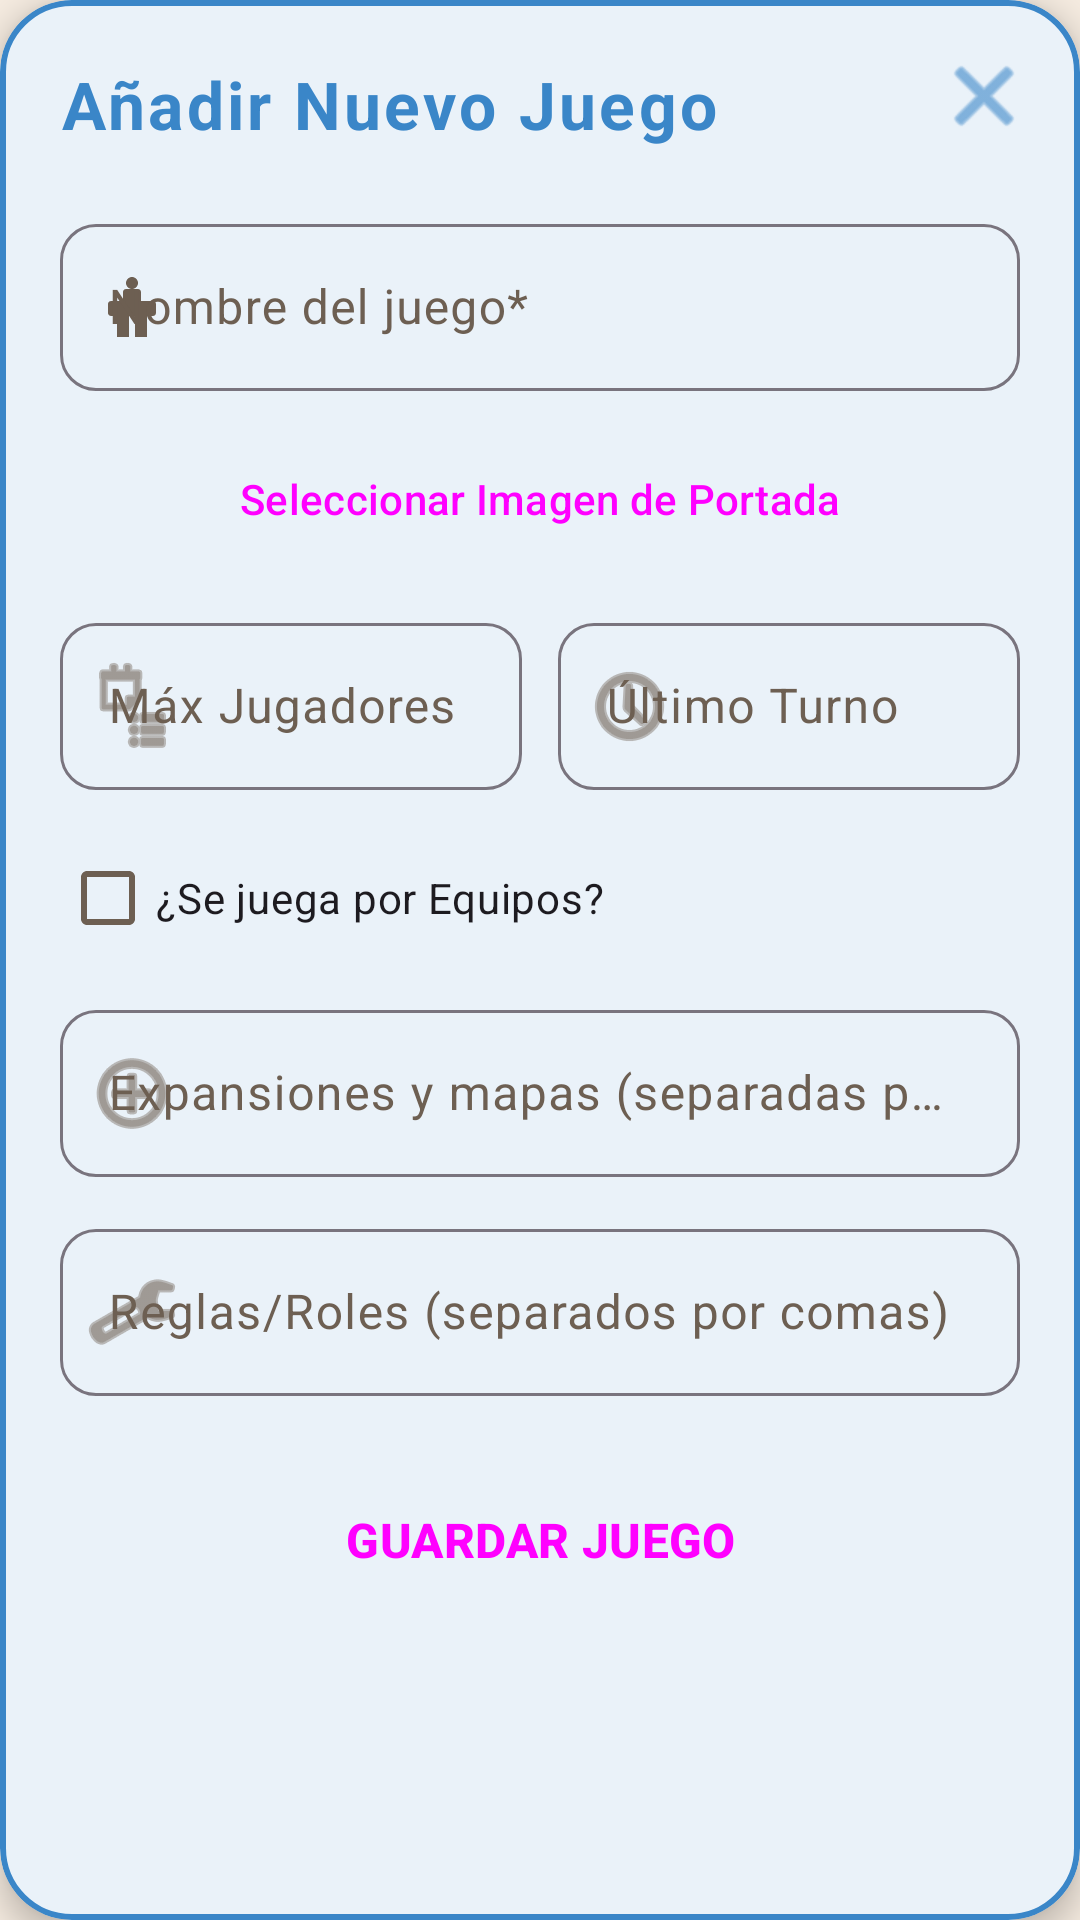

Named icons in this screenshot (1080 x 1920) and their centers, (x=x, y=y):
Cerrar: (x=984, y=96)
